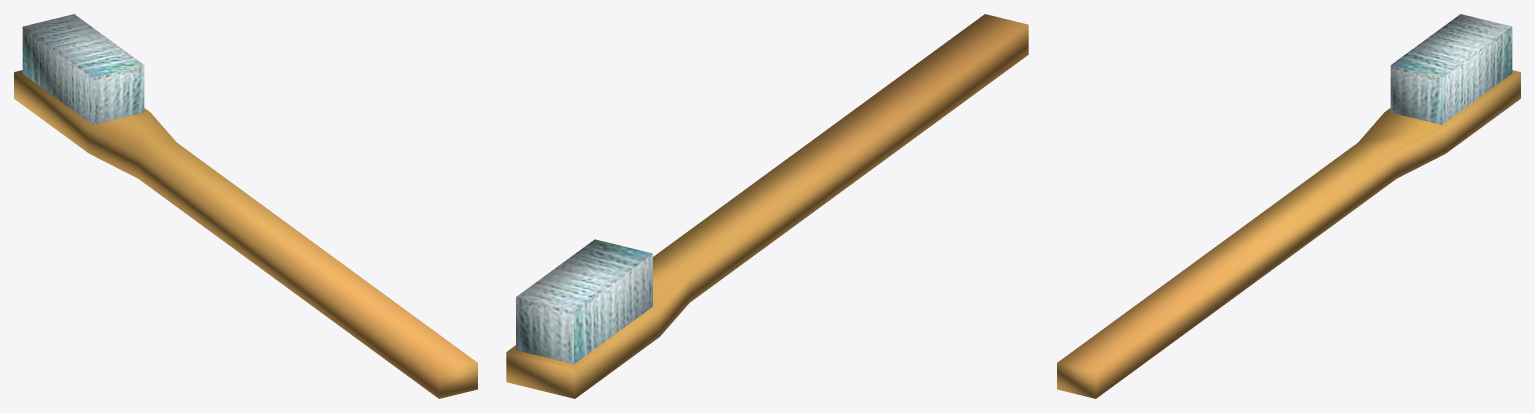
The model's file is Toothbrush_03.glb.
3 renders of one model, left to right at view 1: azimuth 30°, elevation 25°; view 2: azimuth 150°, elevation 25°; view 3: azimuth 330°, elevation 25°, orthographic. The views are drawn at different scales.
Parts seen in each view (by area): view 1: Toothbrush_03; view 2: Toothbrush_03; view 3: Toothbrush_03.
Boxes of the visible parts, left/top/right/bottom form: Toothbrush_03: left=14, top=14, right=477, bottom=398; Toothbrush_03: left=506, top=14, right=1028, bottom=398; Toothbrush_03: left=1057, top=14, right=1520, bottom=398.
Size of the model in its own units: 0.0165 by 0.019 by 0.1932.
1 material, 1 textured.
